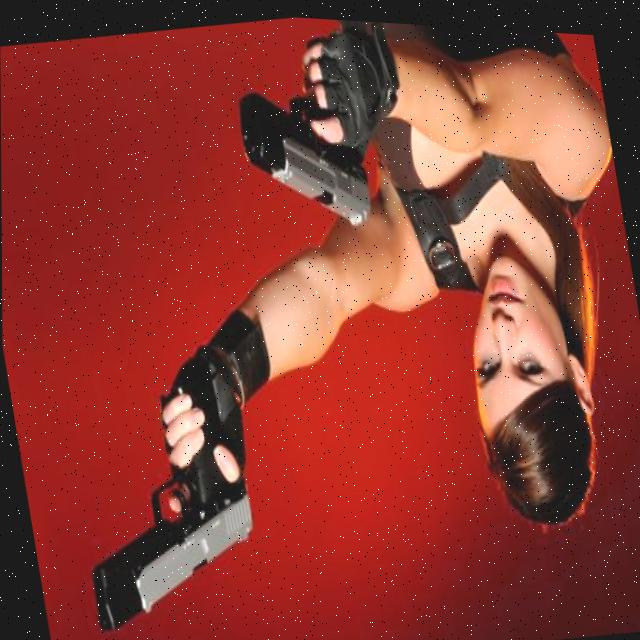pistol: (73, 442, 269, 640), (236, 76, 374, 239)
